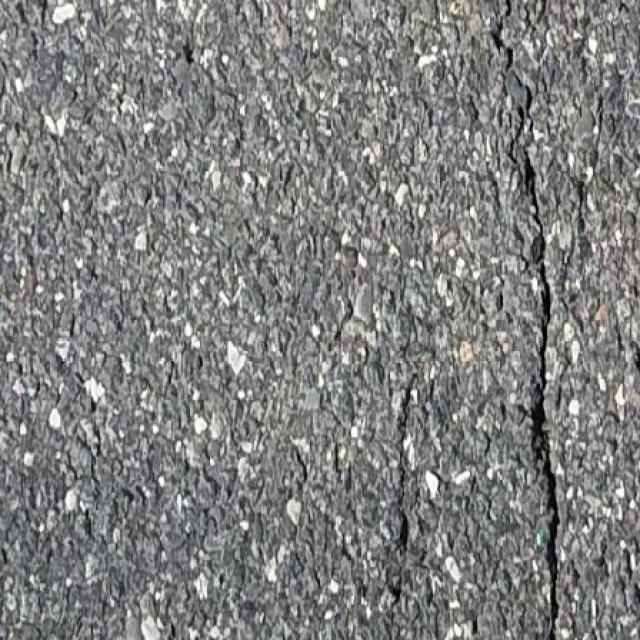Vertical Crack: (489, 0, 566, 640), (390, 369, 419, 596)
